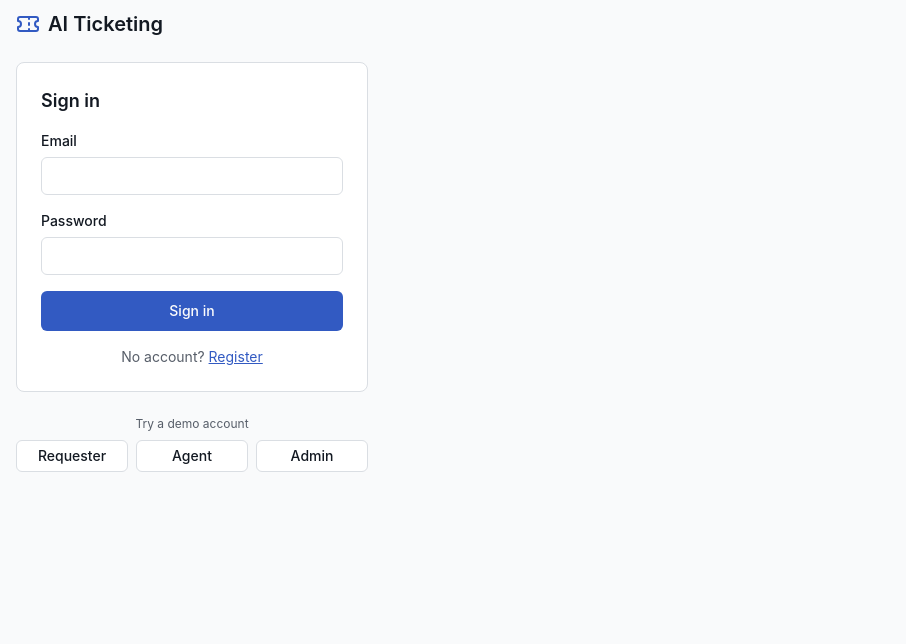
Test: LoginPage › shows the server error when sign-in fails
Type "x@acme.example" into the field labelled "Email" at (192, 176), box [41, 157, 343, 195]
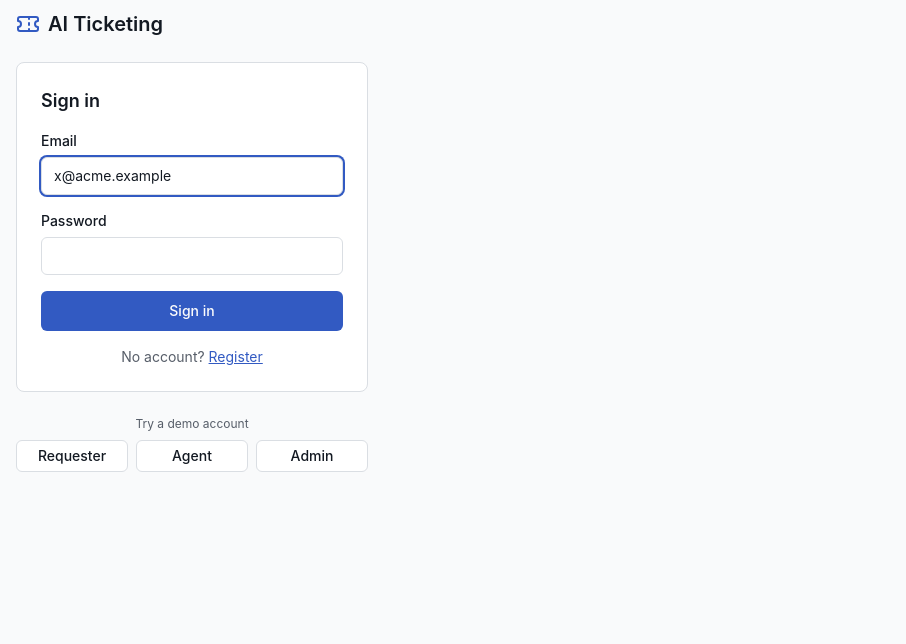
Type "wrong" into the password field labelled "Password" at (192, 256), box [41, 237, 343, 275]
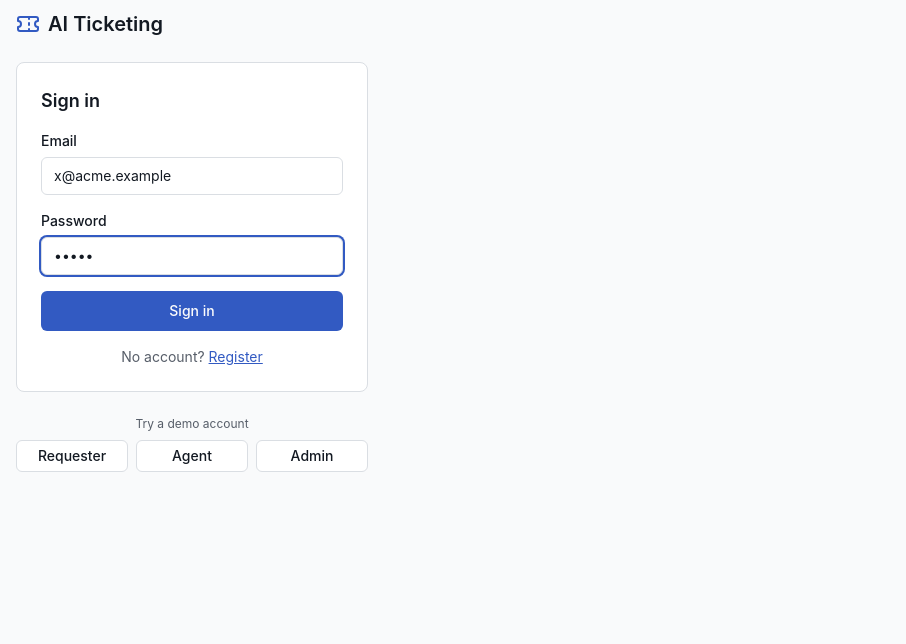
Click the button "Sign in" at (192, 311), box [41, 291, 343, 331]
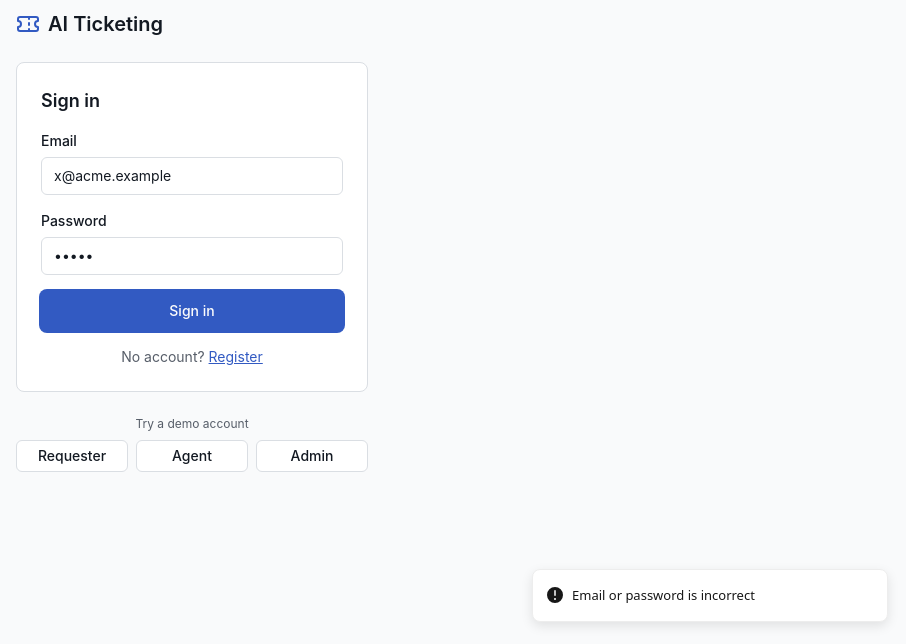
Expected: the text "Email or password is incorrect" is shown, [572, 586, 755, 605]
